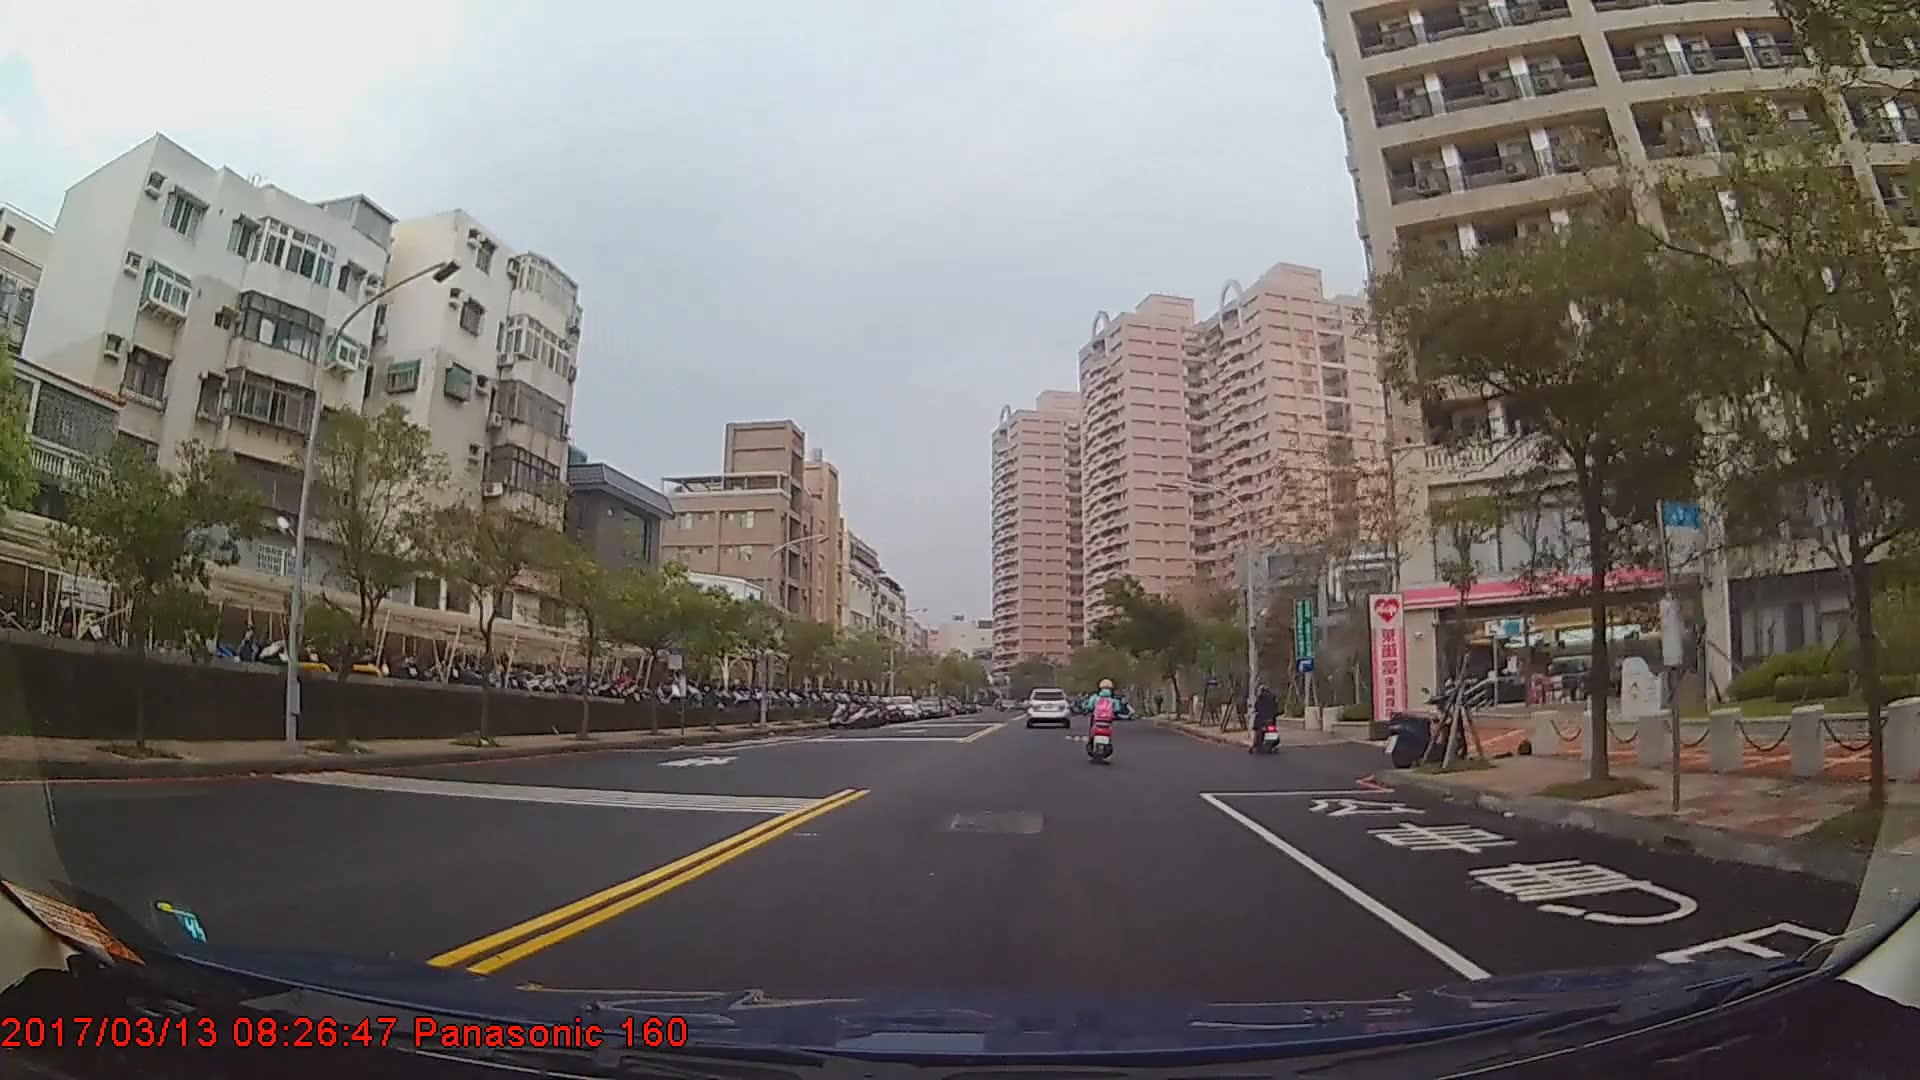rider: (1083, 677, 1123, 762), (1249, 683, 1283, 755)
vehicle: (1022, 687, 1073, 728), (882, 695, 917, 721)
